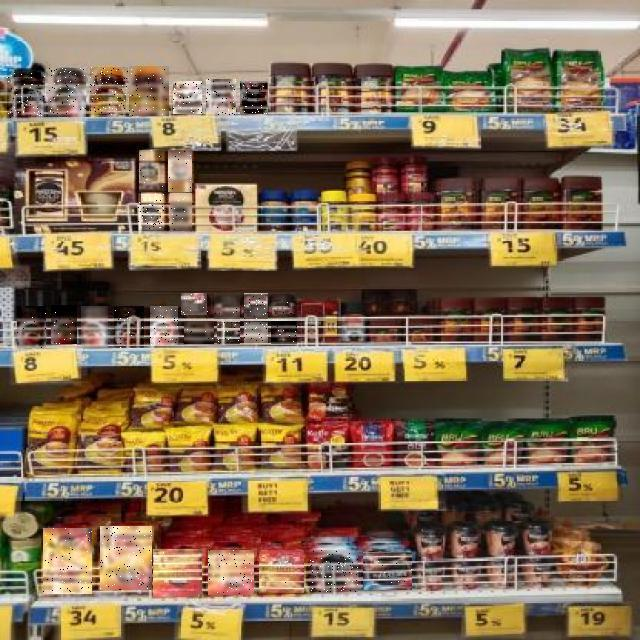Coffee: (100, 527, 152, 591), (43, 528, 92, 594), (153, 549, 202, 597), (209, 550, 255, 595), (310, 551, 358, 593), (129, 66, 169, 116), (259, 550, 304, 593), (7, 68, 45, 118), (48, 68, 86, 117), (363, 552, 412, 590), (90, 67, 128, 115), (114, 306, 144, 348), (17, 306, 46, 348), (82, 306, 110, 348), (150, 306, 178, 345), (206, 80, 236, 116), (51, 305, 77, 344), (168, 150, 192, 192), (140, 150, 164, 192), (139, 193, 165, 230), (173, 81, 202, 114), (240, 81, 268, 114), (170, 193, 192, 230), (214, 293, 240, 319), (182, 294, 210, 318), (184, 322, 214, 344), (244, 293, 268, 319), (271, 293, 294, 319), (271, 321, 297, 344), (217, 321, 240, 344), (244, 322, 268, 343)
